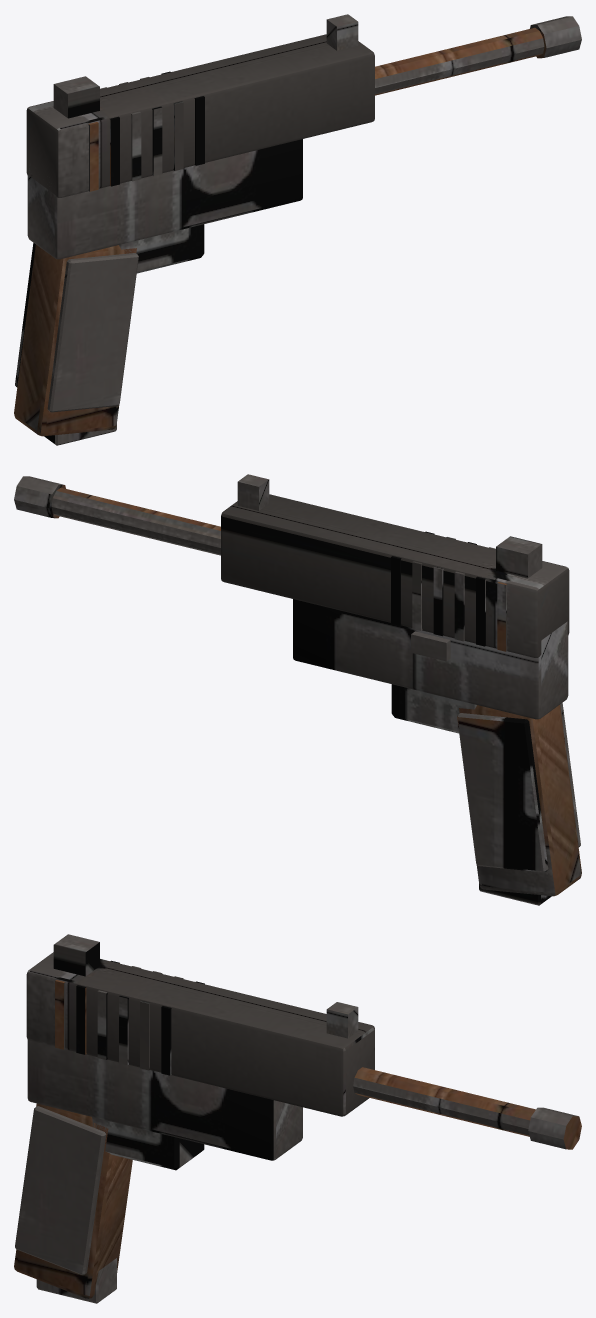
Rendered from weapon_pistol.glb.
The picture shows the model from 3 angles, top to bottom: view 1: azimuth 30°, elevation 25°; view 2: azimuth 150°, elevation 25°; view 3: azimuth 330°, elevation 25°; orthographic projection.
Visible parts, largest first — view 1: Body, IronSights, DefaultMuzzle; view 2: Body, IronSights, DefaultMuzzle; view 3: Body, IronSights, DefaultMuzzle, DefaultMag.
Boxes of the visible parts, x1,y1,x2,y2 form: Body: (14,27,544,436); IronSights: (53,14,358,118); DefaultMuzzle: (530,16,581,58); Body: (51,487,581,896); IronSights: (237,474,542,578); DefaultMuzzle: (14,476,65,518); Body: (14,952,535,1298); IronSights: (53,934,358,1038); DefaultMuzzle: (528,1107,581,1149); DefaultMag: (36,1258,116,1303).
Bounding box in the file's own units: 0.3088 × 0.187 × 0.037.
Materials: 1 (1 with a texture image).
